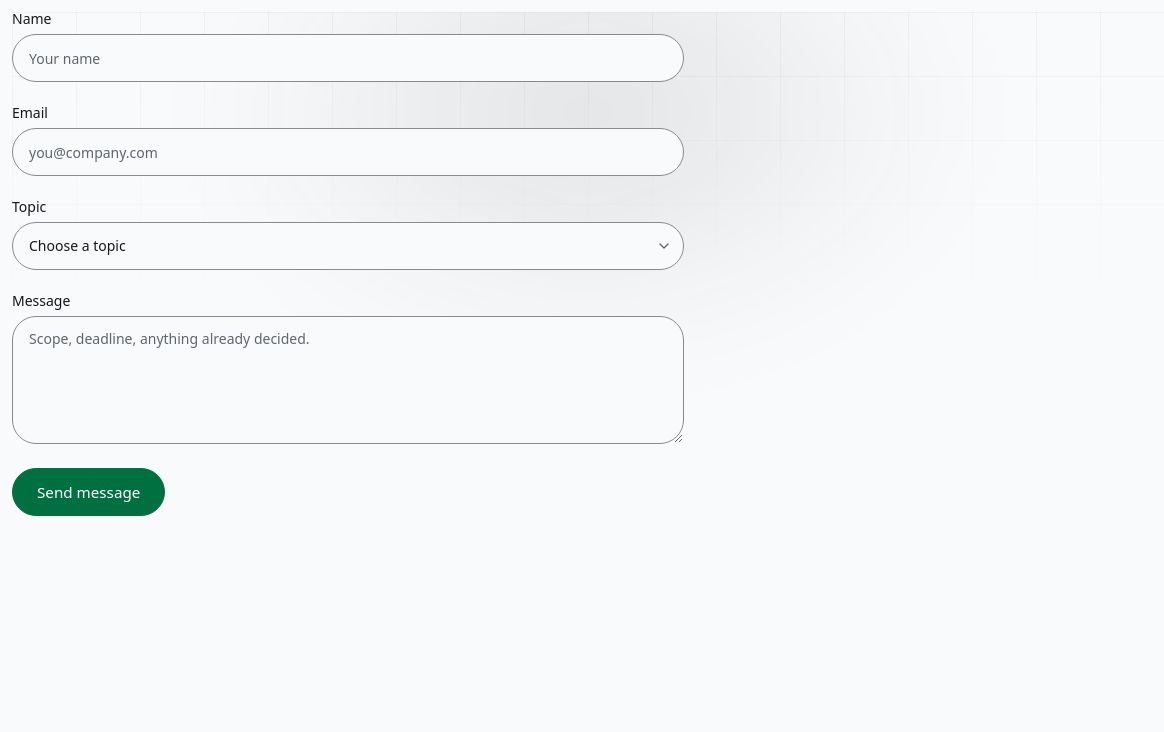
Test: ContactForm submission › does not count a rejected message
Type "Ada Lovelace" into the field labelled "Name".
click(348, 58); type("Ada Lovelace")  # box [12, 34, 684, 82]
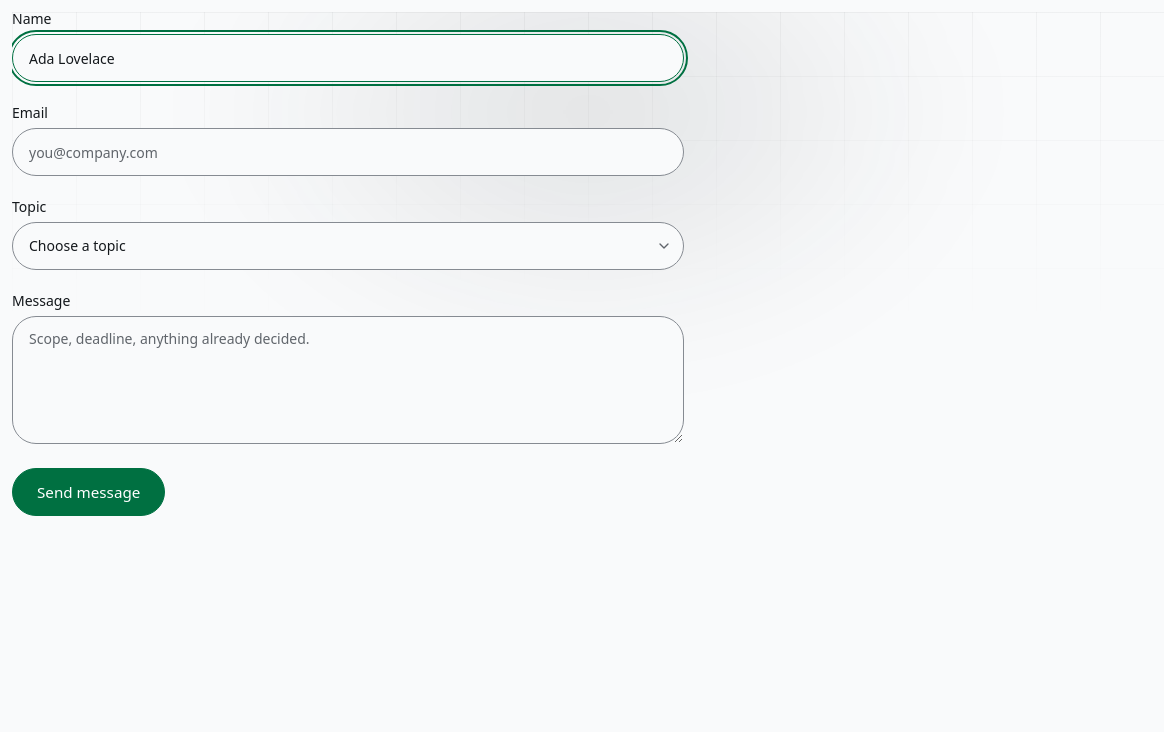
Type "ada@example.com" into the field labelled "Email".
click(348, 152); type("ada@example.com")  # box [12, 128, 684, 176]
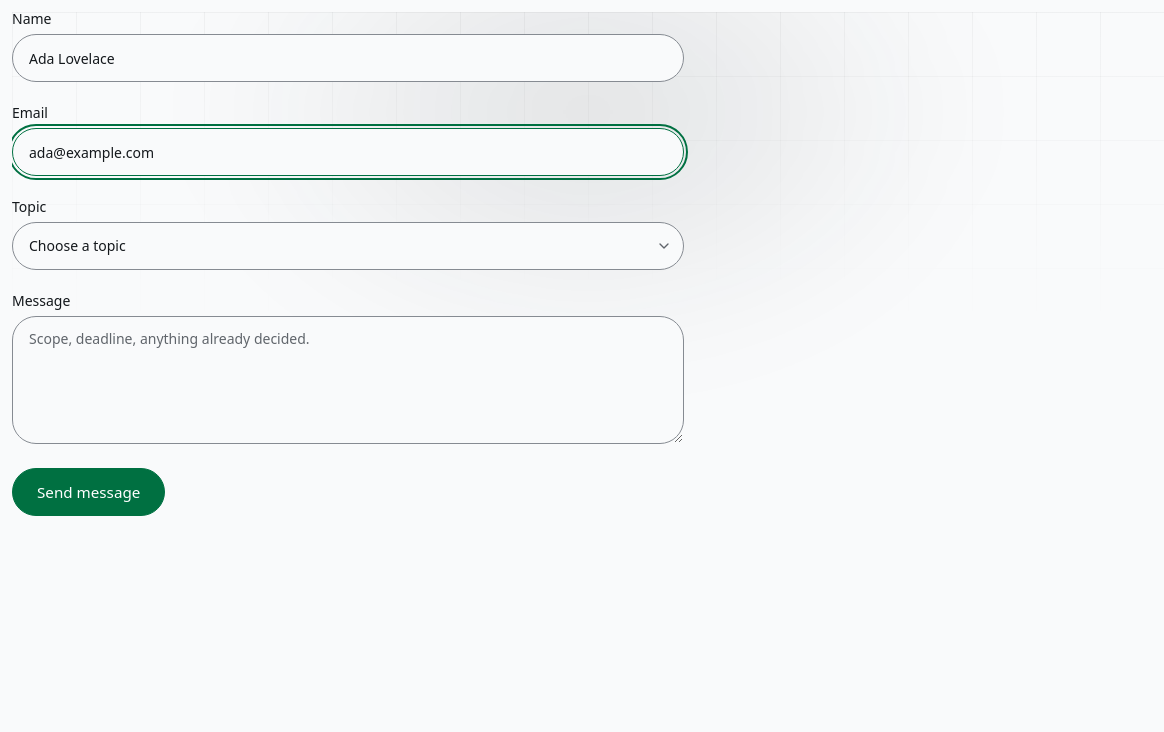
Select "Web development" in the dropdown labelled "Topic" at {"x": 348, "y": 246}, box [12, 222, 684, 270]
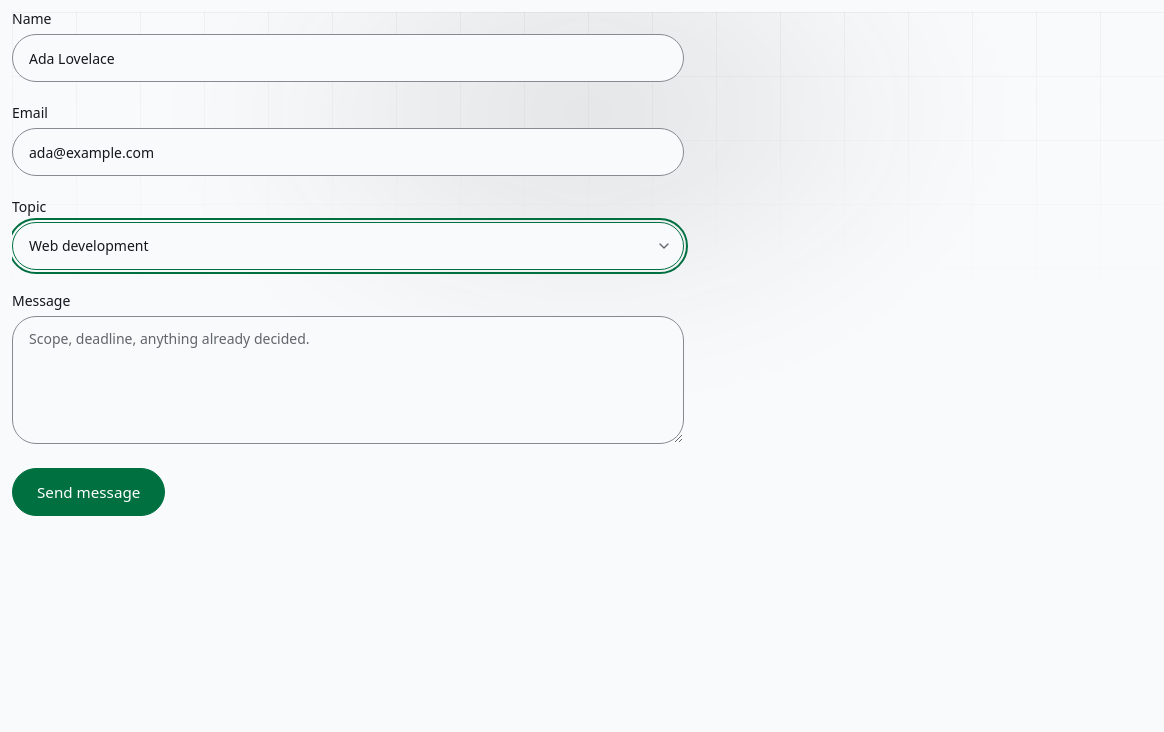
Type "Hello there" into the text box labelled "Message".
click(348, 380); type("Hello there")  # box [12, 316, 684, 444]
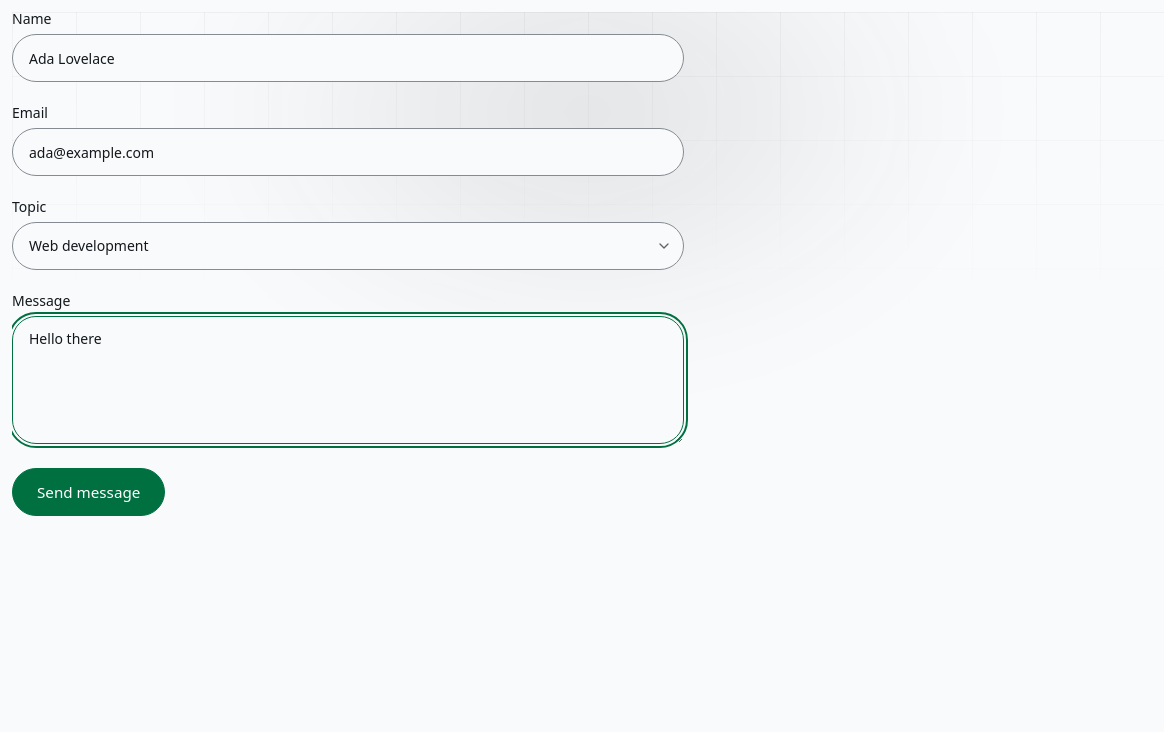
Click the button "Send message".
click(89, 492)  # box [12, 468, 165, 516]
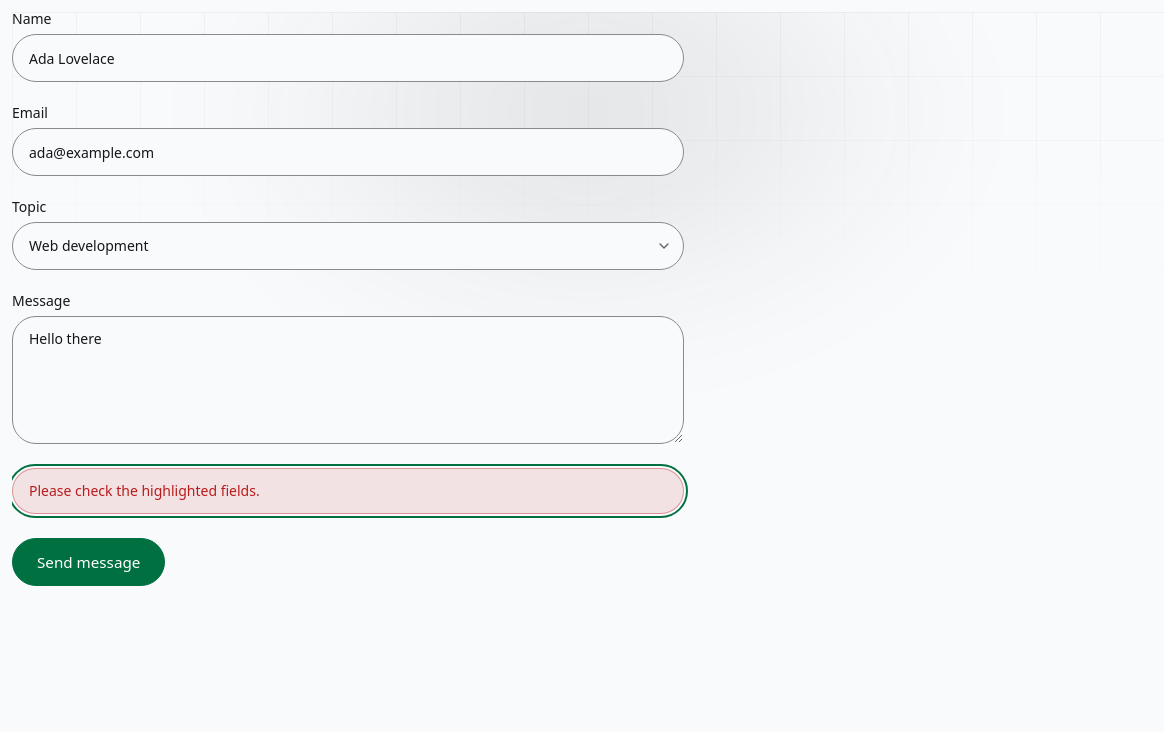
Now the message "Please check the highlighted fields." is shown, box [12, 468, 684, 514]
